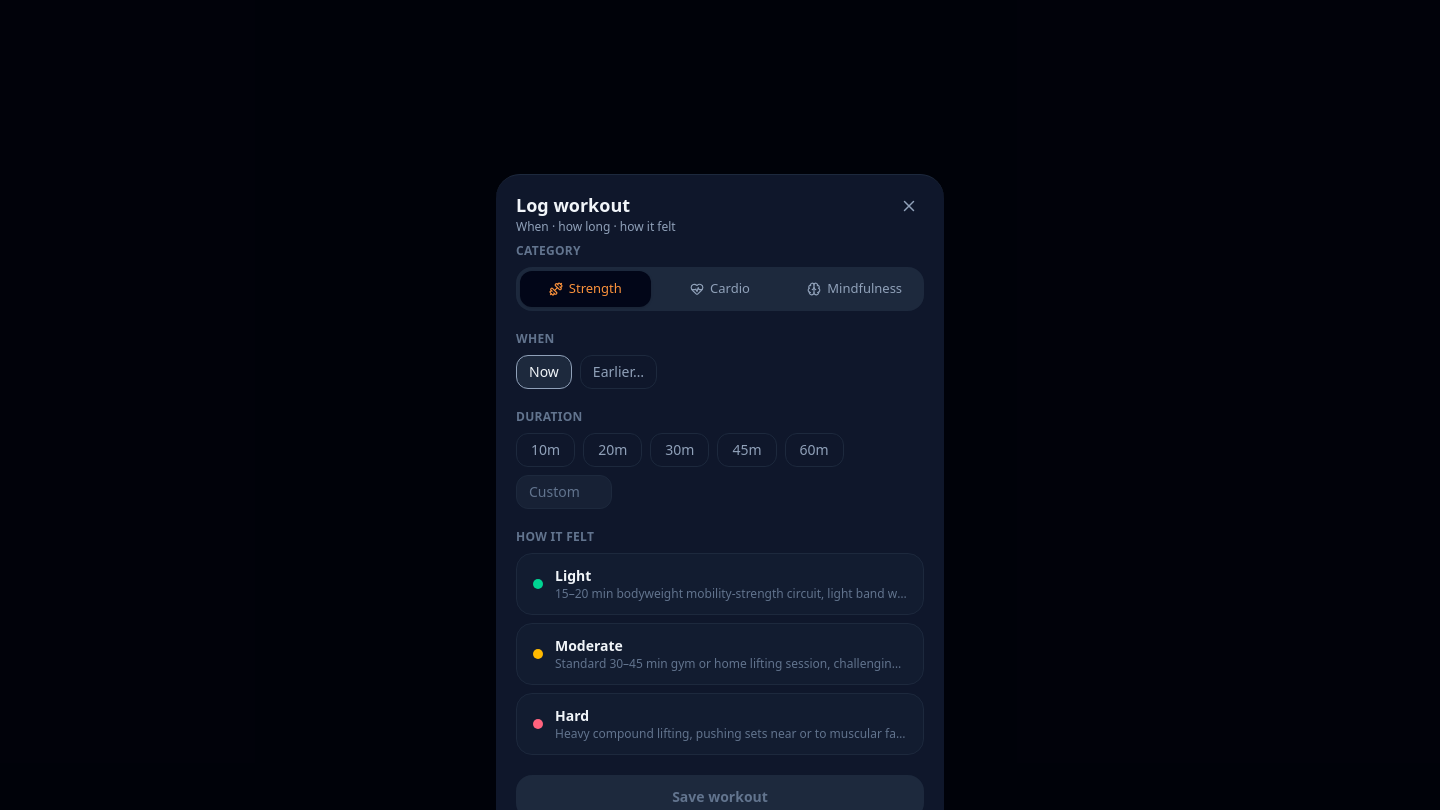
Scenario: LogWorkoutSheet › previews a normal gain in the workout window and submits
The width and height of the screenshot is (1440, 810).
Later steps or results of the test are not shown.
Click the button "Moderate" at (720, 654), box [516, 622, 924, 684]
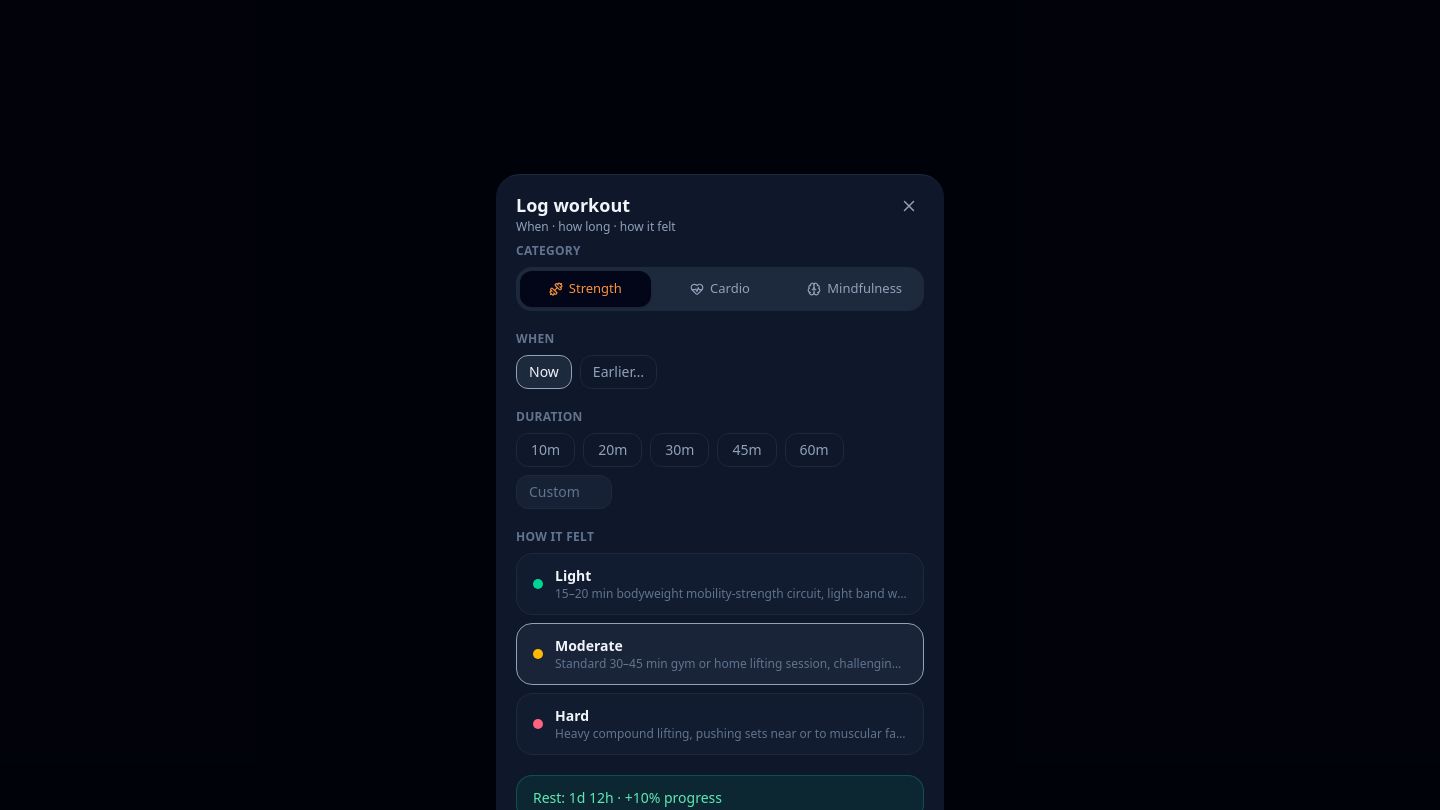
Check: the text "Rest: 1d 12h · +10% progress" is shown, box [516, 774, 924, 809]
